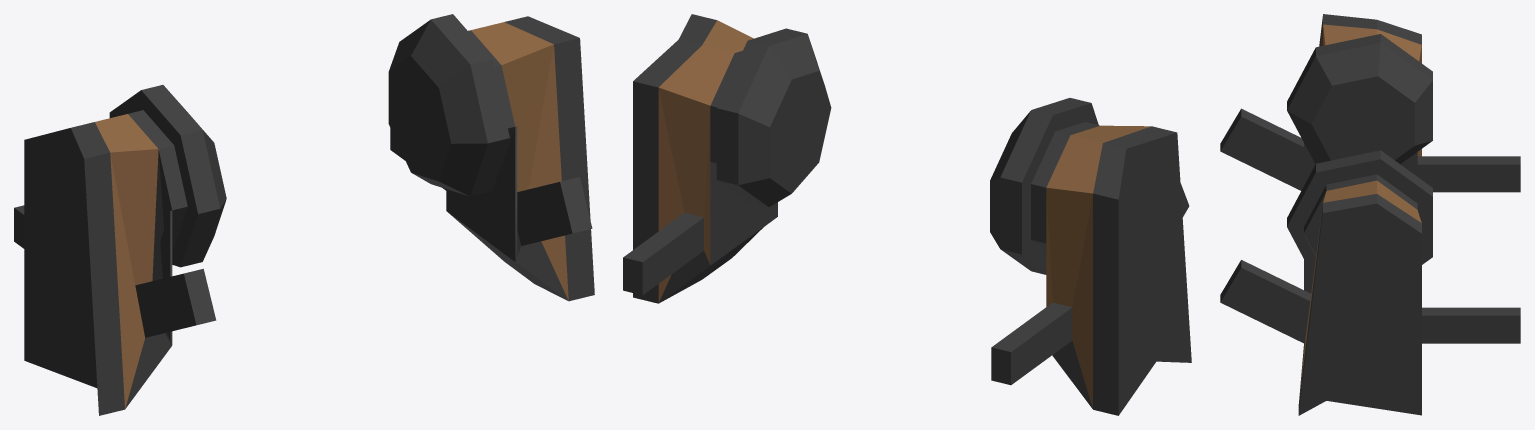
The model's file is cannon_rig.glb.
The picture shows the model from 3 angles, left to right: view 1: azimuth 30°, elevation 25°; view 2: azimuth 150°, elevation 25°; view 3: azimuth 270°, elevation 25°; orthographic projection. The views are drawn at different scales.
Parts seen in each view (by area): view 1: cannon_rig; view 2: cannon_rig; view 3: cannon_rig.
Part boxes in pixels (bbox=[...]): cannon_rig: bbox=[14, 14, 594, 415]; cannon_rig: bbox=[623, 14, 1191, 415]; cannon_rig: bbox=[1220, 14, 1520, 415].
Size of the model in its own units: 1.2 by 0.6187 by 0.7655.
1 material, 1 textured.
